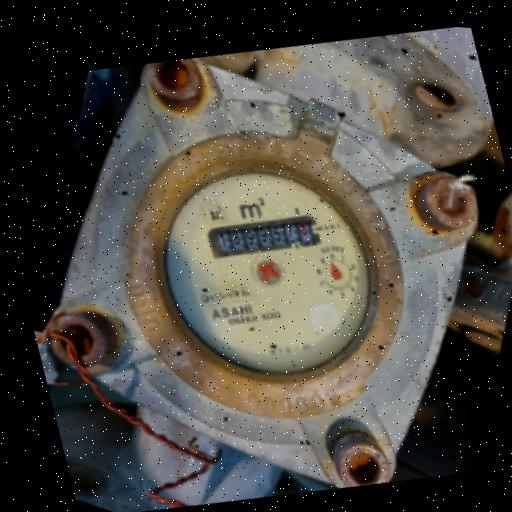1: (215, 229, 232, 252)
5: (270, 222, 285, 244)
7: (284, 220, 298, 242)
8: (297, 219, 312, 246), (229, 228, 244, 250)
9: (257, 224, 271, 246), (244, 227, 257, 248)
border_water_meter_number: (204, 207, 325, 265)
